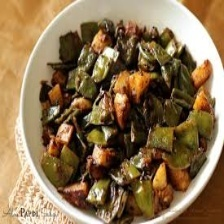sabzi: (38, 16, 217, 224)
